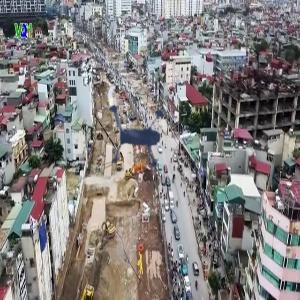drone: (90, 75, 198, 183)
